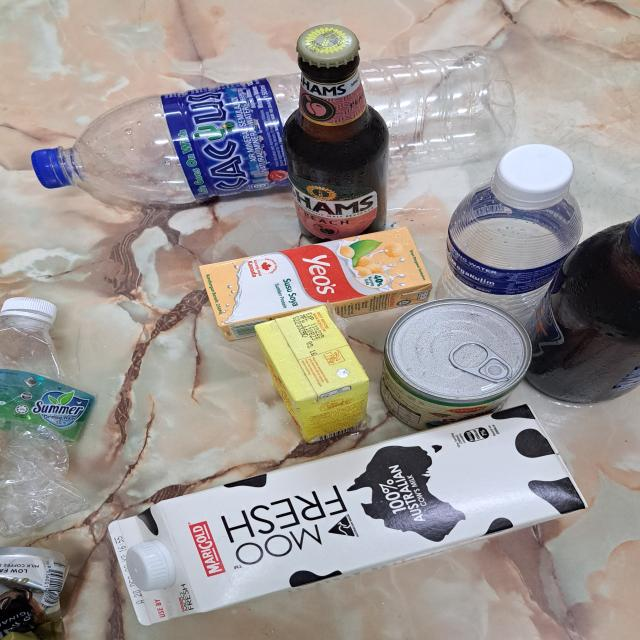can: (386, 301, 531, 424), (0, 546, 83, 640)
drink carton: (111, 405, 584, 621), (191, 228, 431, 318), (259, 308, 374, 444)
glass bottle: (280, 24, 390, 239), (521, 212, 640, 410)
plastic bottle: (87, 48, 517, 204), (0, 313, 86, 539)
plastic bottle cap: (499, 142, 574, 202), (124, 539, 172, 590), (6, 292, 56, 331), (34, 142, 69, 190)
pop tab: (453, 345, 510, 387)
